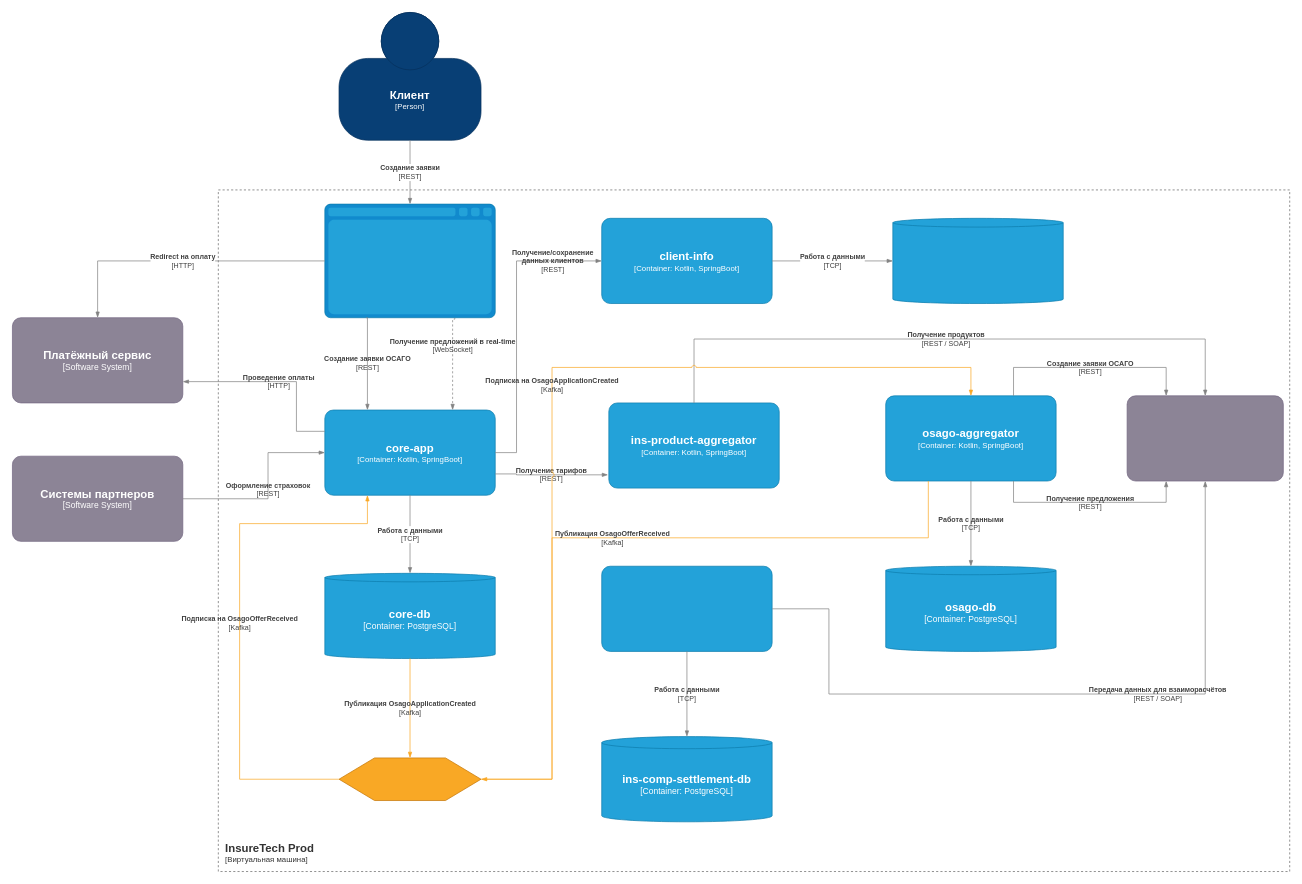
This 1302x884 diagram has some shape labels left out. The box of each missing label's shape, as (x1, y1, x2, y2) in pixels:
client-info-db [Container: PostgreSQL]: (892, 218, 1063, 304)
ins-comp-settlement [Container: Kotlin, SpringBoot]: (601, 566, 772, 651)
InsureTech Web [Container: JavaScript, React]: (324, 203, 495, 318)
Kafka Cluster: (338, 757, 481, 801)
Системы страховых компаний [Software System]: (1126, 395, 1283, 481)
